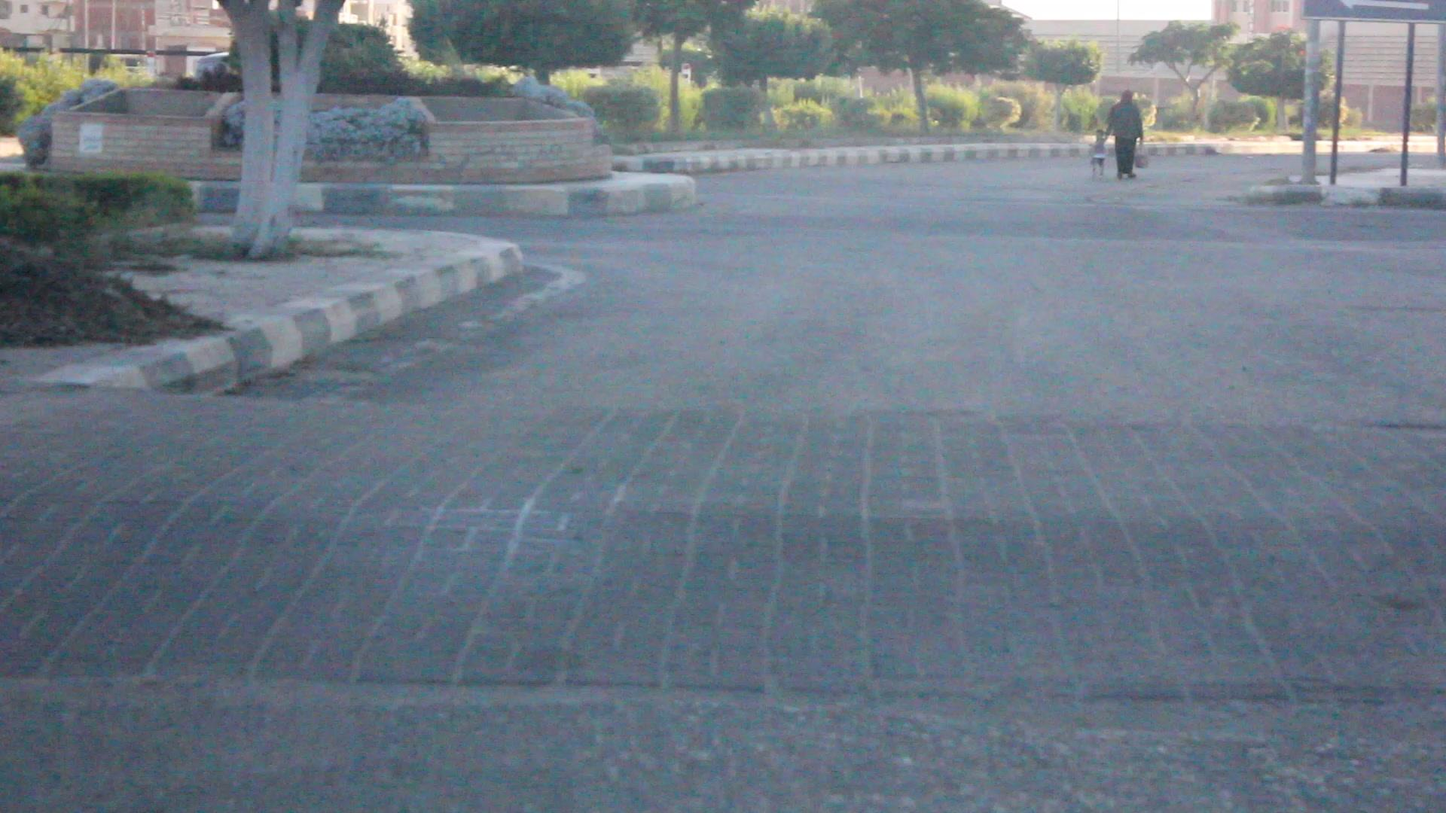Bump: (0, 391, 1446, 672)
